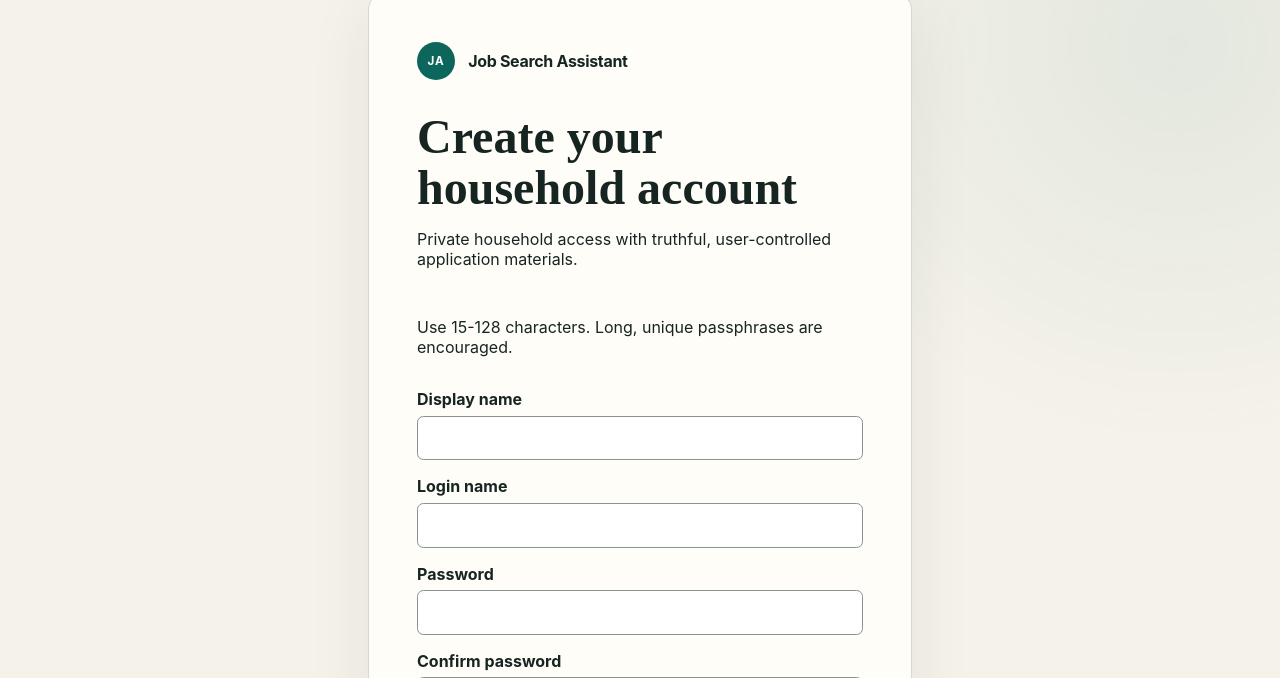
Test: authentication experience › validates password confirmation and shows compromised feedback
This screenshot has width=1280, height=678.
Check: the text "15-128" is shown, box [417, 317, 823, 357]
Type "Member" into the field labelled "Display name" at (640, 438), box [417, 416, 863, 460]
Type "member" into the field labelled "Login name" at (640, 525), box [417, 503, 863, 548]
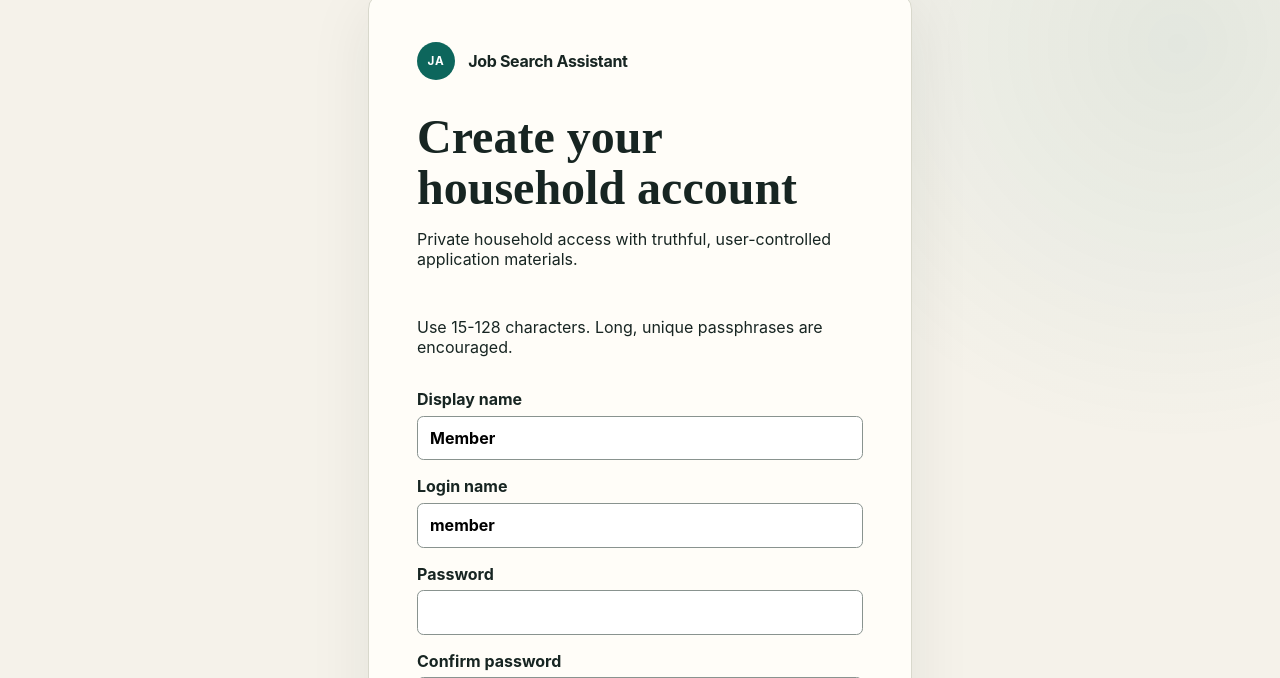
Type "a sufficiently long password" into the password field labelled "Password" at (640, 612), box [417, 590, 863, 635]
(page scrolled)
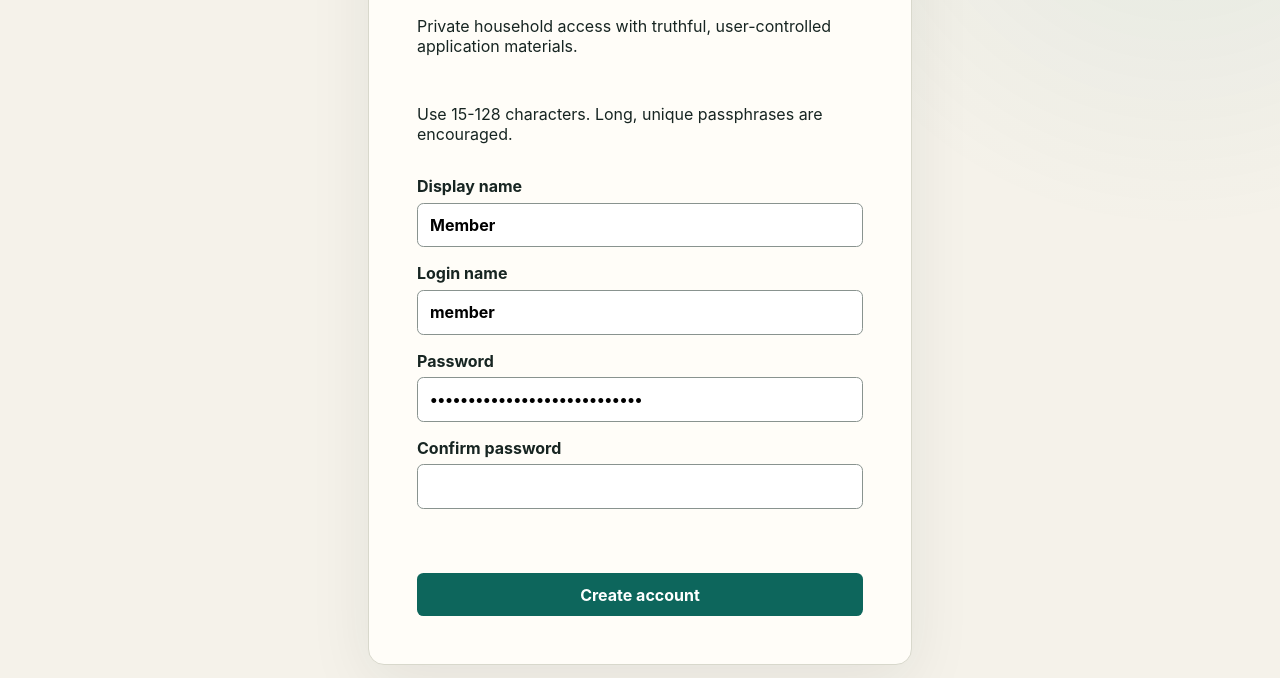
Type "different password value" into the password field labelled "Confirm password" at (640, 486), box [417, 464, 863, 509]
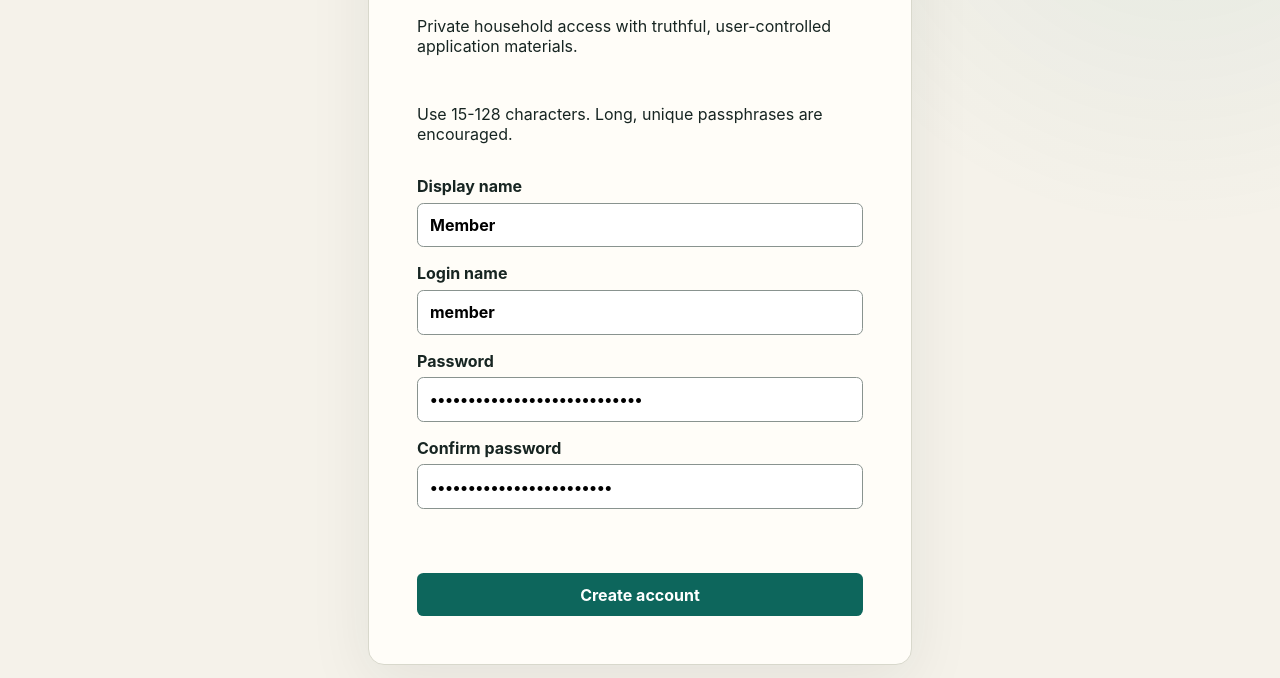
Click the button "Create account" at (640, 594), box [417, 573, 863, 616]
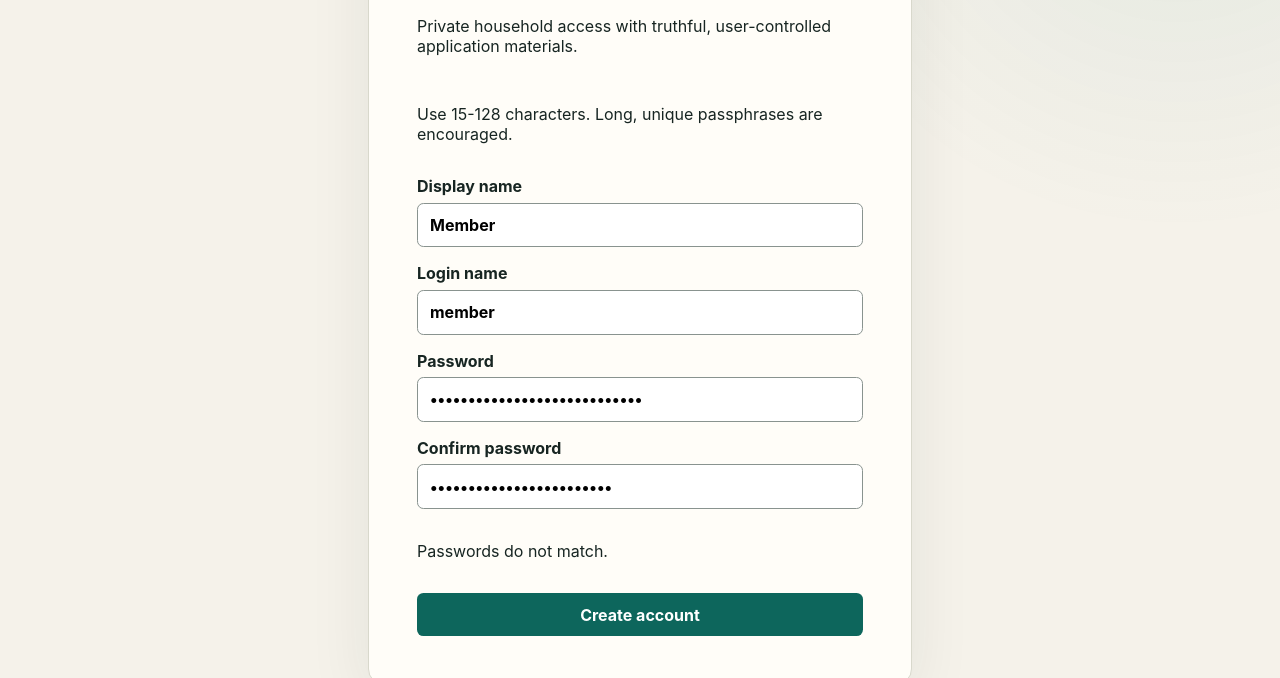
Check: the message shows "do not match", box [417, 541, 608, 561]
Type "a sufficiently long password" into the password field labelled "Confirm password" at (640, 486), box [417, 464, 863, 509]
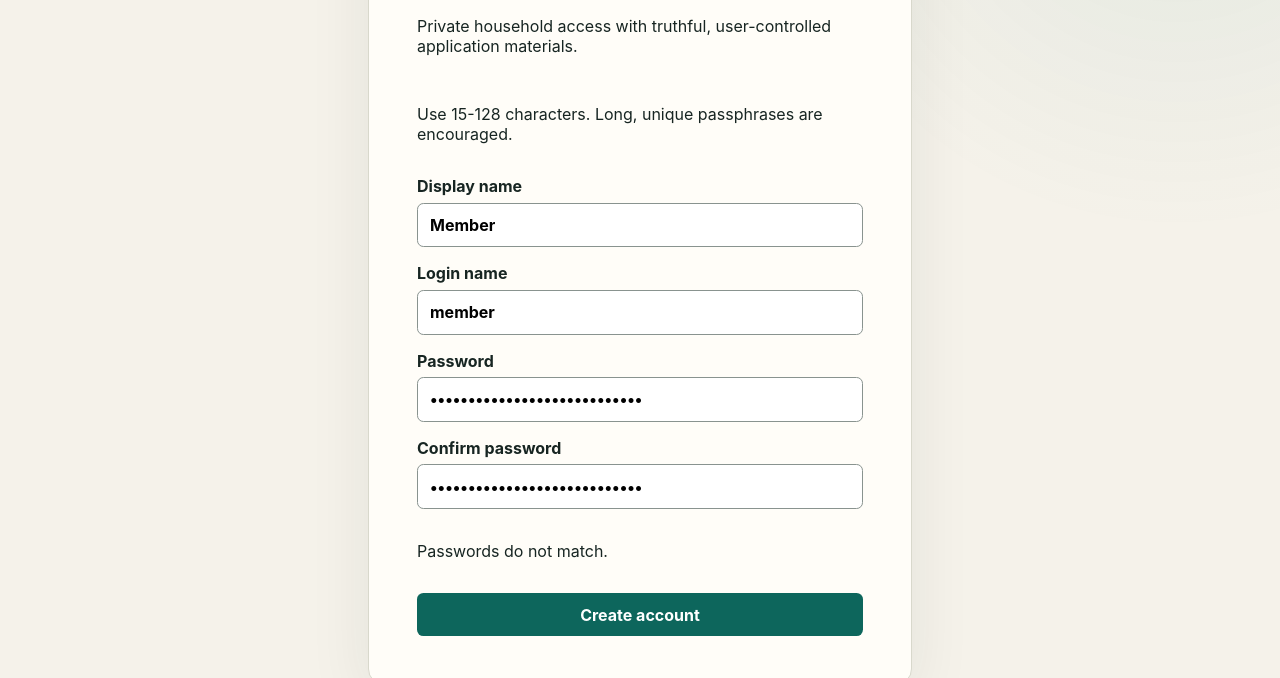
Click the button "Create account" at (640, 614), box [417, 593, 863, 636]
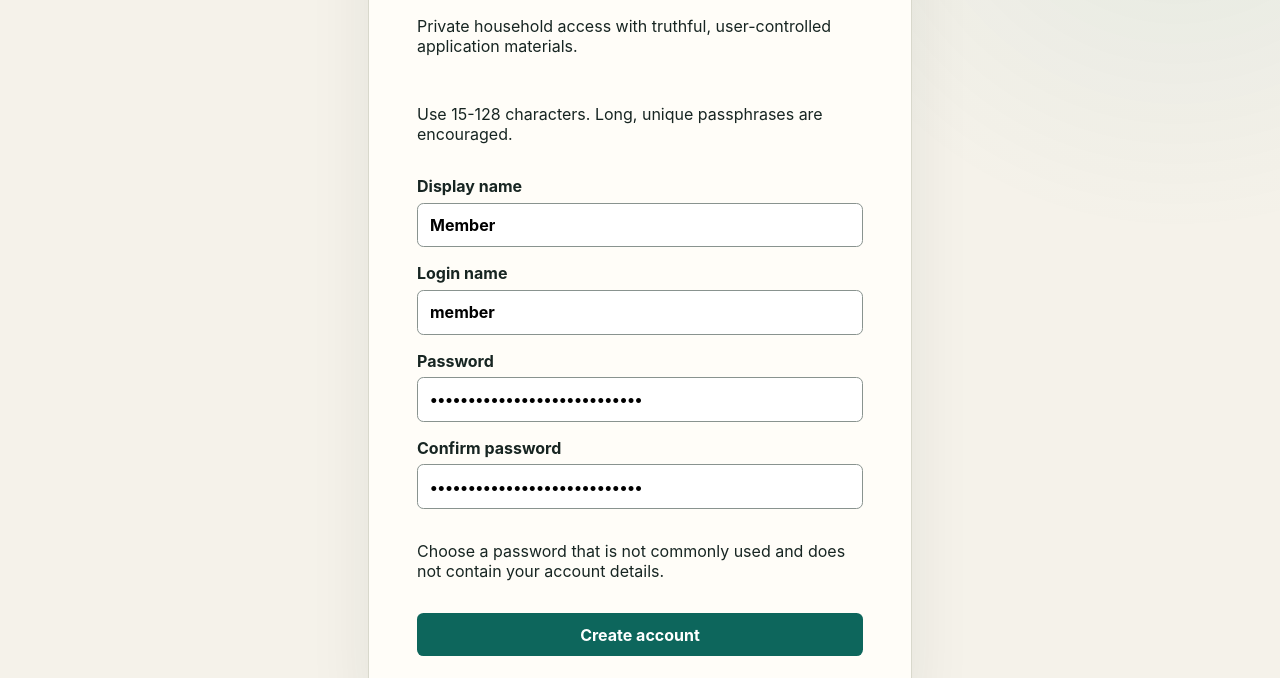
Check: the message shows "not commonly used", box [417, 541, 845, 581]
